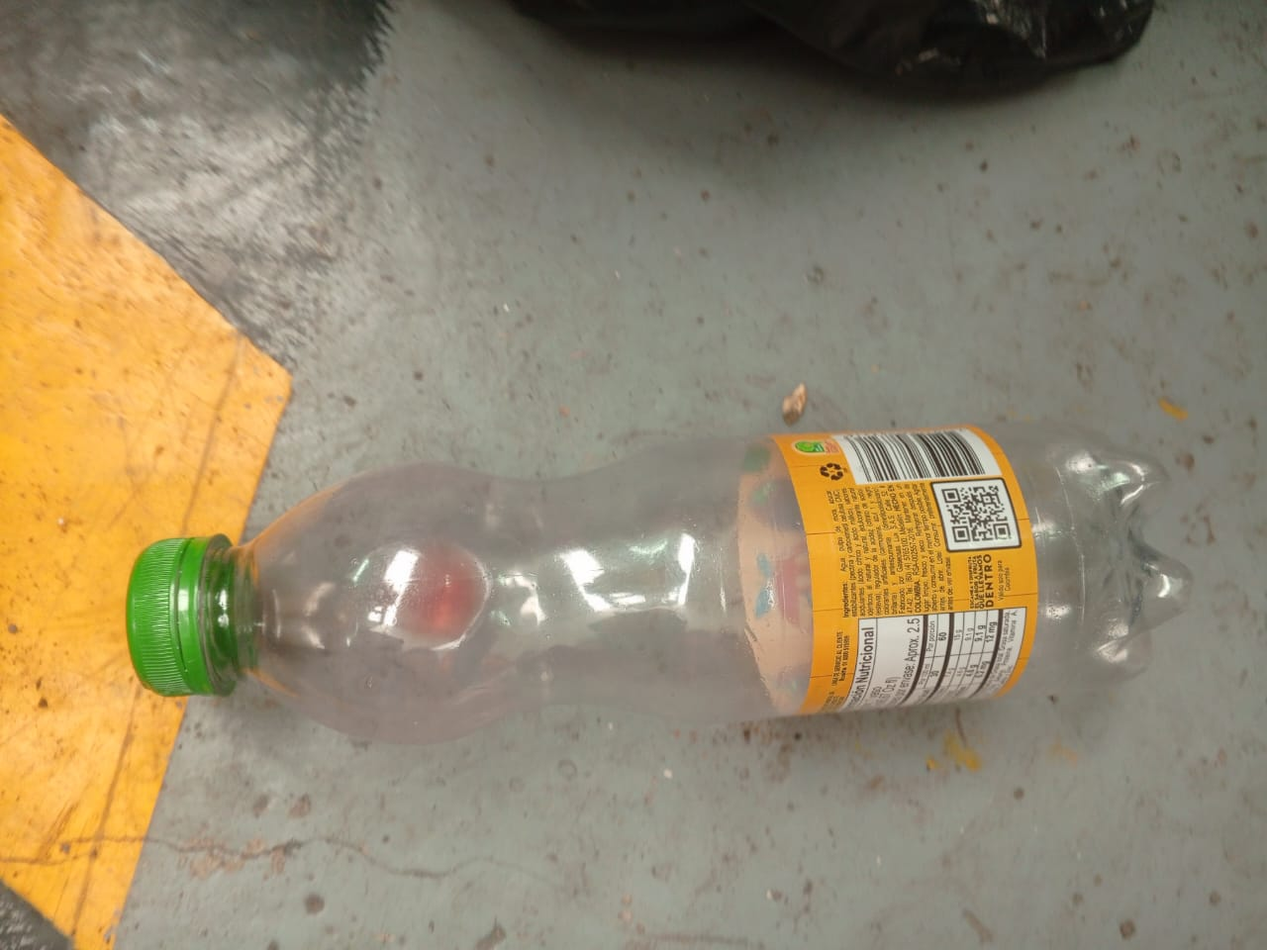Plastico: (126, 420, 1197, 749)
